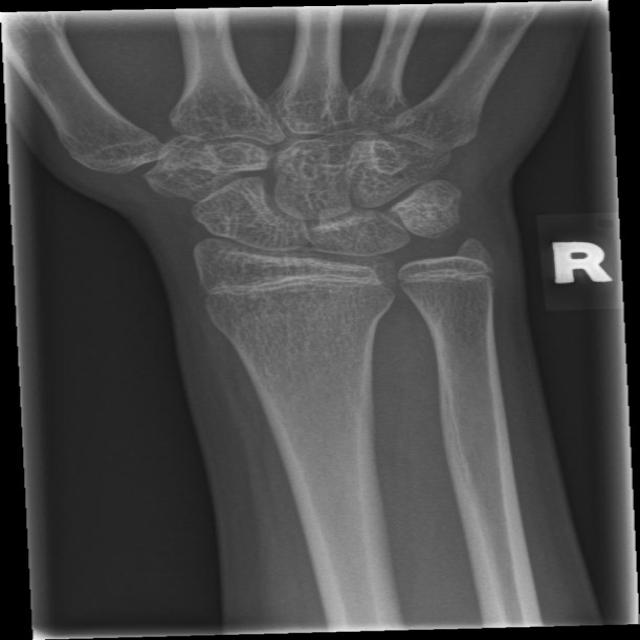fracture: (188, 256, 402, 316), (383, 258, 511, 294)
